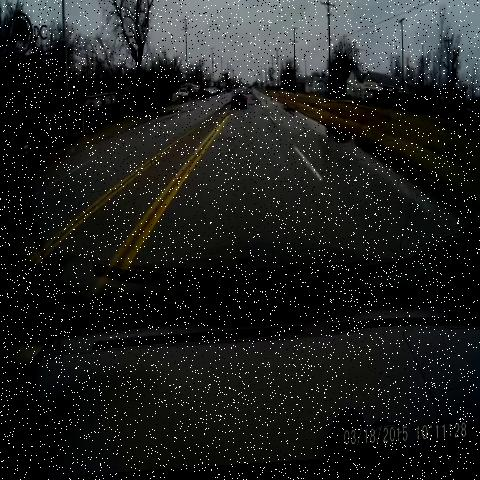pothole: (245, 102, 265, 115)
